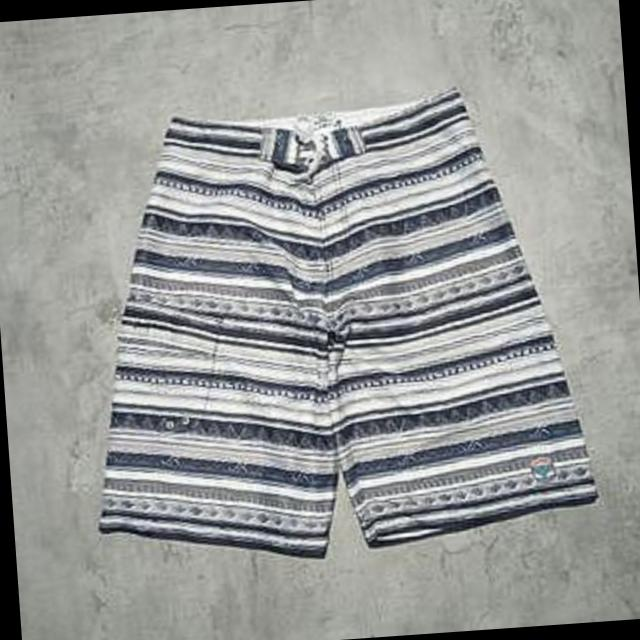SHORT: (54, 75, 619, 585)
